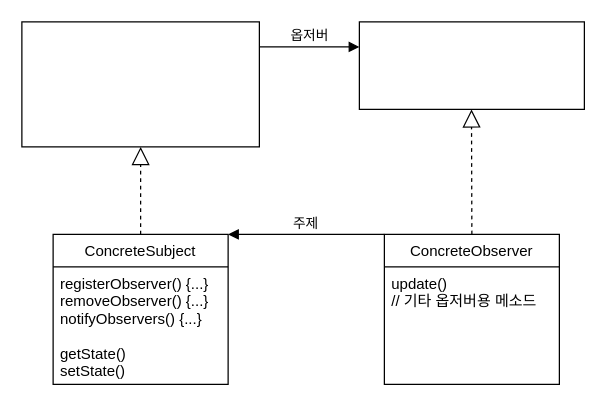
The diagram is 606 pixels wide and 410 high, and some of its shapes have lost their labels. The shapes that lost their labels are listed below. From the top down, each one's centre as x and y in pixels, then its label:
the point at 140,84: <<Interface>> Subject registerObserver() removeObserver() notifyObservers()
the point at 471,65: <<Interface>> Observer update()
